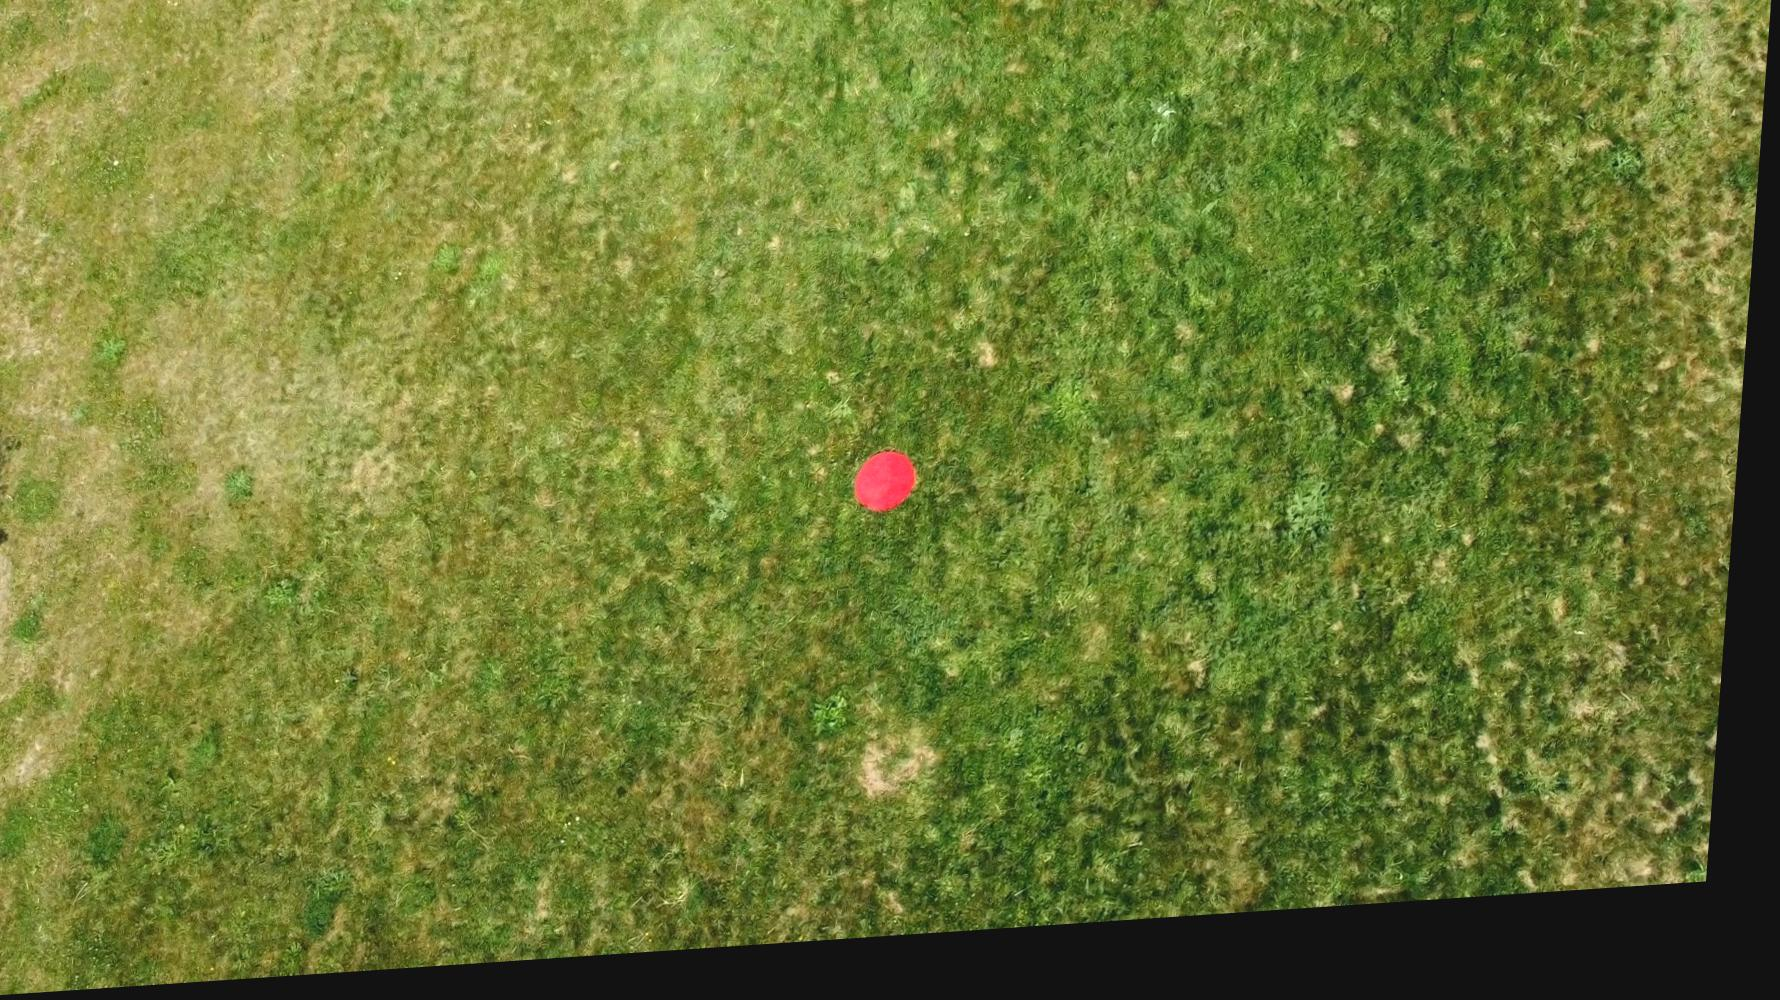Red: (858, 458, 930, 529)
